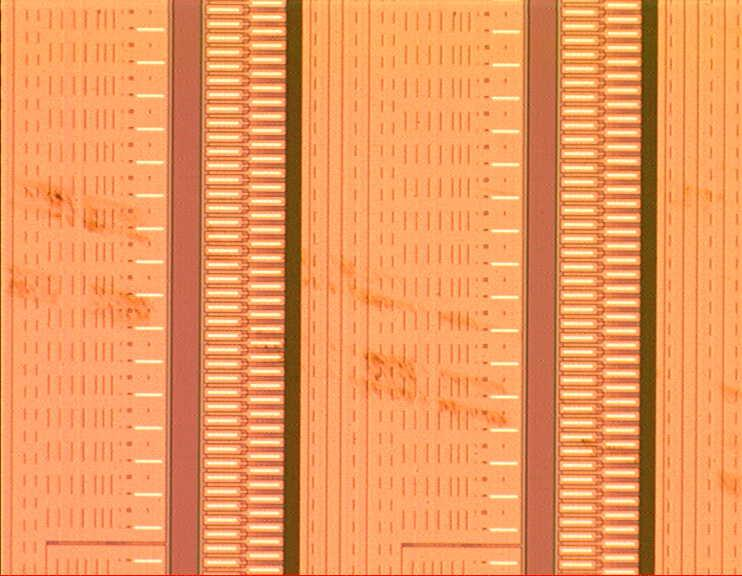SCRATCH: (3, 172, 742, 508)
